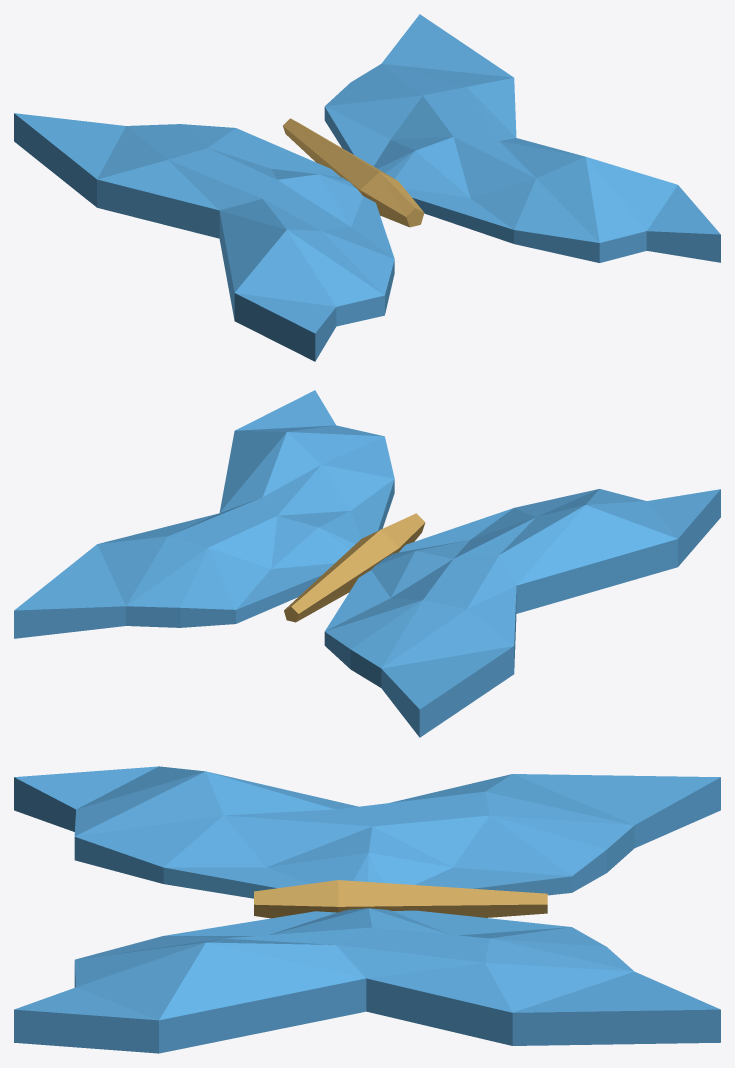
File: butterfly (Scaled Down).fbx
3 renders of one model, top to bottom at view 1: azimuth 30°, elevation 25°; view 2: azimuth 150°, elevation 25°; view 3: azimuth 270°, elevation 25°, orthographic. The views are drawn at different scales.
Visible parts, largest first — view 1: Cube; view 2: Cube; view 3: Cube.
Boxes of the visible parts, bbox=[...] form: Cube: bbox=[14, 14, 720, 361]; Cube: bbox=[14, 390, 720, 737]; Cube: bbox=[14, 766, 720, 1053].
Bounding box in the file's own units: 14.21 × 1.82 × 16.72.
